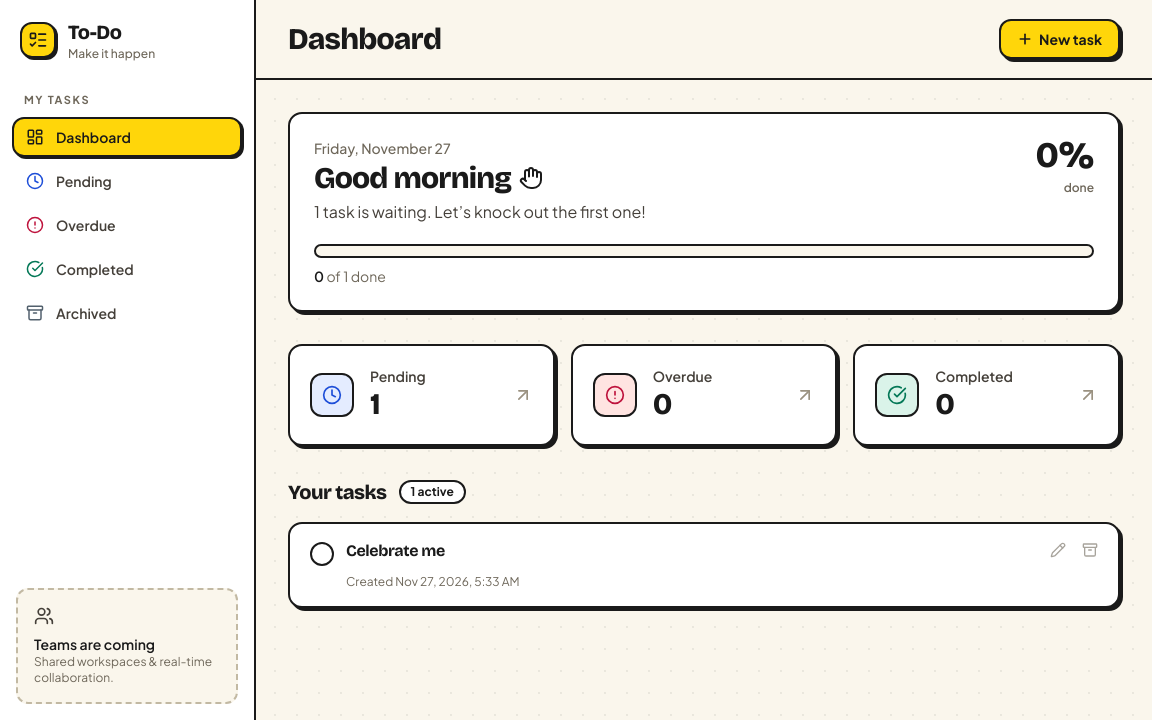
Test: completion micro-interactions › plays a confetti burst when completing, not when reopening
Click the checkbox named "Mark \"Celebrate me\" as complete" at [322, 554], box left=310, top=542, right=334, bottom=566
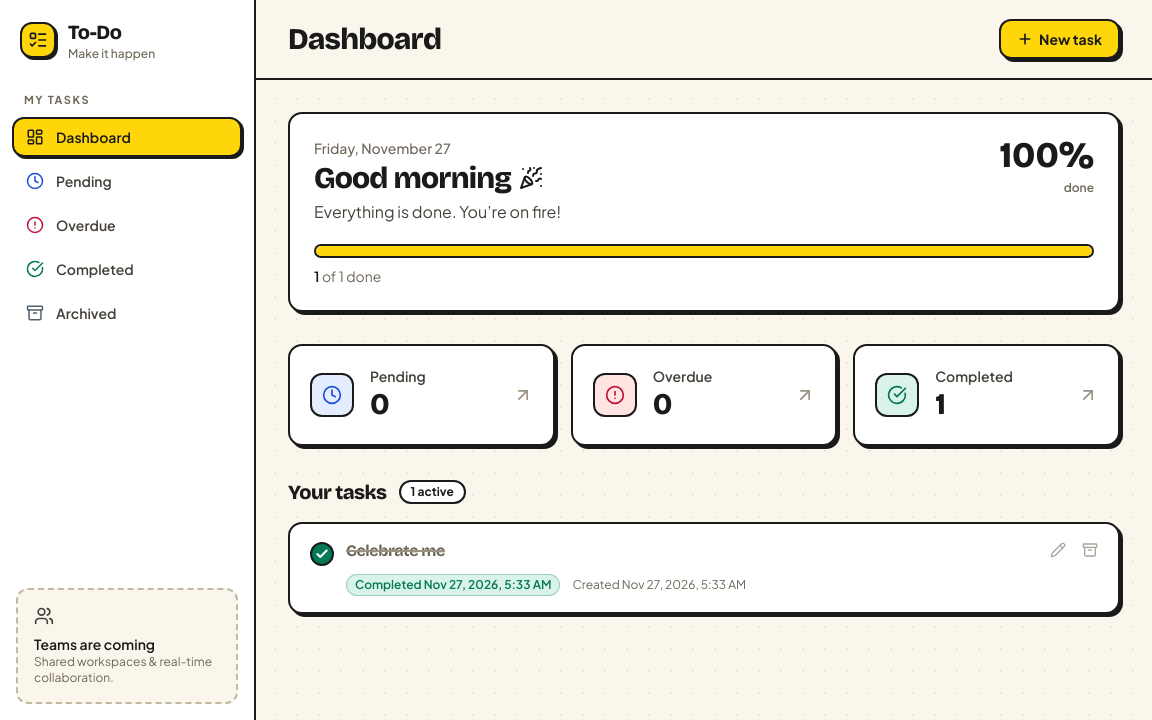
Click the checkbox named "Mark \"Celebrate me\" as not complete" at [322, 554], box left=310, top=542, right=334, bottom=566
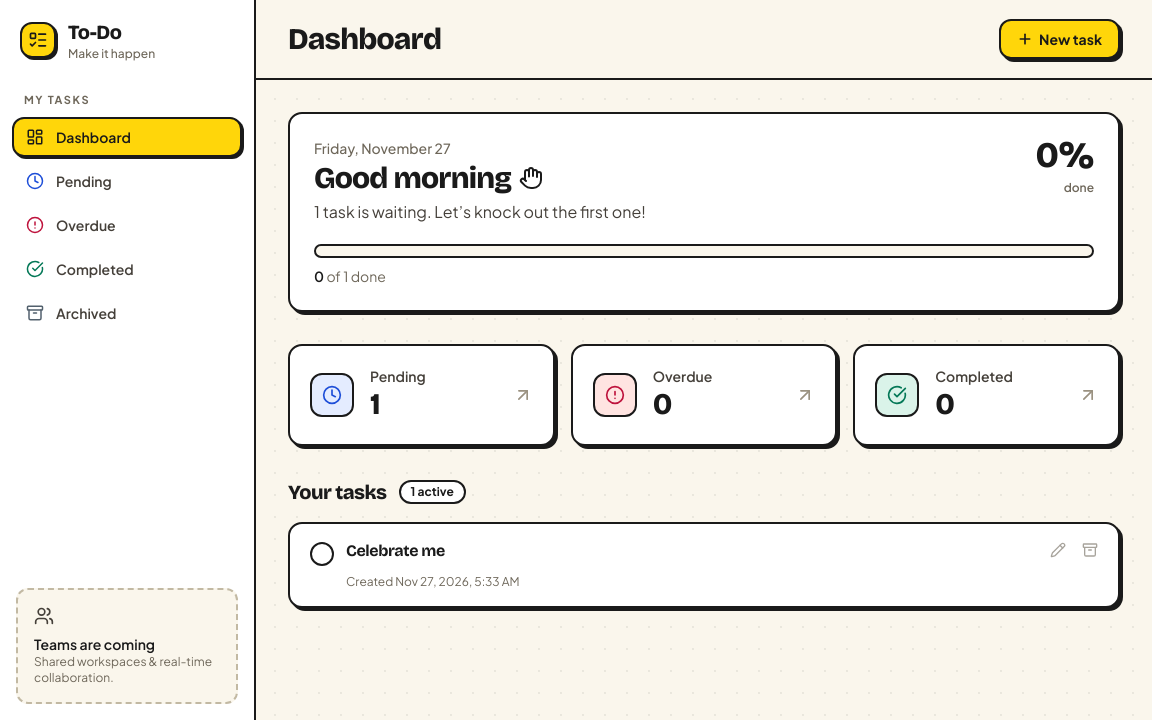
Expected: the element with test id "burst" is gone
